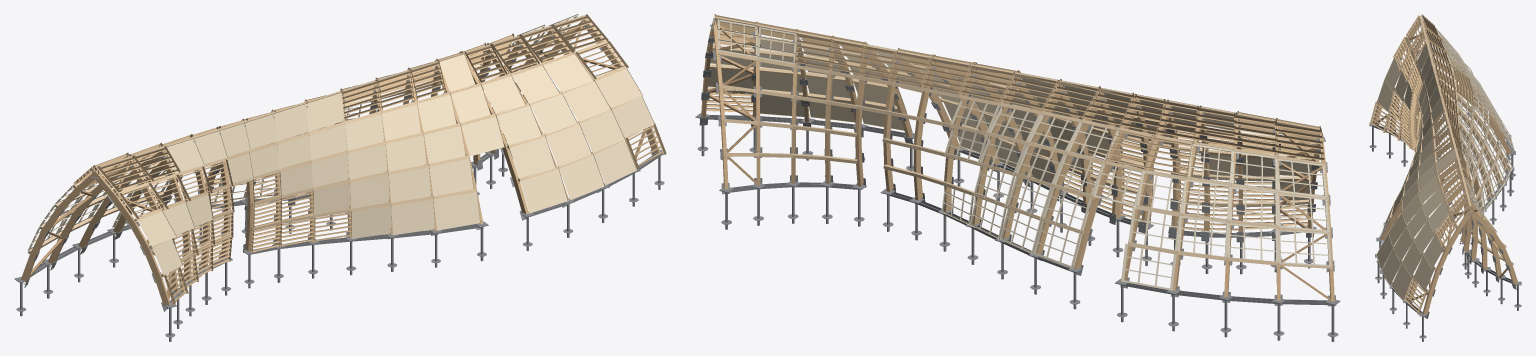
Rendered from pavilion_before.glb.
3 renders of one model, left to right at view 1: azimuth 30°, elevation 25°; view 2: azimuth 150°, elevation 25°; view 3: azimuth 270°, elevation 25°, orthographic. The views are drawn at different scales.
Parts seen in each view (by area): view 1: P1_막힌패널|10, P1_막힌패널|12, P1_막힌패널|13, P1_막힌패널|9, P1_막힌패널|14, P1_막힌패널|8, P1_막힌패널|7, P1_막힌패널|11, P1_막힌패널|6, P1_막힌패널|15, F1_리브|0, P2_루버패널|0 (+37 smaller); view 2: P2_루버패널|3, P3_격자패널|0, P3_격자패널|5, P3_격자패널|3, P3_격자패널|6, P2_루버패널|1, P1_막힌패널|14, P3_격자패널|1, P3_격자패널|2, P3_격자패널|7, P2_루버패널|0, P2_루버패널|5 (+60 smaller); view 3: P1_막힌패널|14, P1_막힌패널|13, P1_막힌패널|12, F1_리브|16, P2_루버패널|1, P2_루버패널|3, P2_루버패널|0, P2_루버패널|2, P2_루버패널|15, P1_막힌패널|15, P3_격자패널|5, P1_막힌패널|11 (+66 smaller).
Boxes of the visible parts, bbox=[...] form: P1_막힌패널|10: bbox=[417, 93, 480, 230]; P1_막힌패널|12: bbox=[481, 75, 567, 213]; P1_막힌패널|13: bbox=[512, 64, 604, 200]; P1_막힌패널|9: bbox=[382, 104, 434, 235]; P1_막힌패널|14: bbox=[543, 53, 637, 185]; P1_막힌패널|8: bbox=[345, 114, 391, 238]; P1_막힌패널|7: bbox=[306, 93, 350, 216]; P1_막힌패널|11: bbox=[439, 53, 504, 156]; P1_막힌패널|6: bbox=[273, 103, 312, 196]; P1_막힌패널|15: bbox=[595, 68, 654, 138]; F1_리브|0: bbox=[21, 170, 170, 306]; P2_루버패널|0: bbox=[73, 152, 188, 304]; P2_루버패널|3: bbox=[1145, 99, 1209, 230]; P3_격자패널|0: bbox=[1275, 158, 1331, 266]; P3_격자패널|5: bbox=[1033, 123, 1119, 268]; P3_격자패널|3: bbox=[1121, 170, 1186, 290]; P3_격자패널|6: bbox=[1000, 115, 1081, 254]; P2_루버패널|1: bbox=[1234, 111, 1277, 229]; P1_막힌패널|14: bbox=[759, 36, 804, 117]; P3_격자패널|1: bbox=[1227, 150, 1278, 261]; P3_격자패널|2: bbox=[1177, 143, 1234, 257]; P3_격자패널|7: bbox=[970, 106, 1041, 239]; P2_루버패널|0: bbox=[1274, 118, 1324, 225]; P2_루버패널|5: bbox=[1083, 86, 1153, 223]; P1_막힌패널|14: bbox=[1391, 200, 1448, 299]; P1_막힌패널|13: bbox=[1381, 187, 1443, 284]; P1_막힌패널|12: bbox=[1376, 176, 1438, 269]; F1_리브|16: bbox=[1422, 208, 1518, 314]; P2_루버패널|1: bbox=[1386, 28, 1445, 140]; P2_루버패널|3: bbox=[1409, 52, 1473, 151]; P2_루버패널|0: bbox=[1370, 14, 1440, 132]; P2_루버패널|2: bbox=[1400, 40, 1450, 148]; P2_루버패널|15: bbox=[1403, 192, 1469, 314]; P1_막힌패널|15: bbox=[1413, 234, 1443, 291]; P3_격자패널|5: bbox=[1456, 92, 1512, 182]; P1_막힌패널|11: bbox=[1401, 149, 1456, 210].
Bounding box in the file's own units: 21.24 × 5.37 × 6.09.
